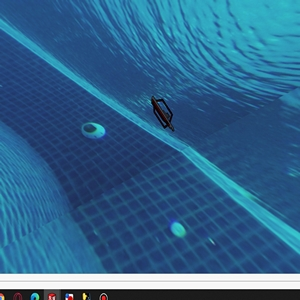submarine: (150, 96, 177, 129)
